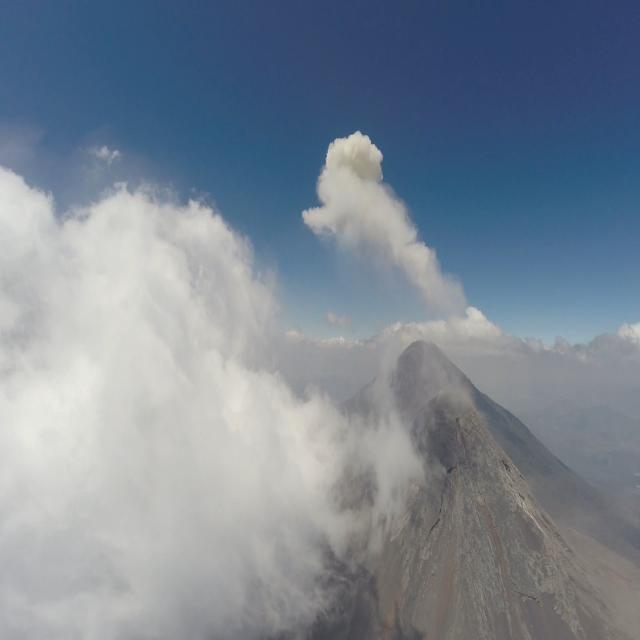Plume: (302, 127, 461, 296)
Summit: (382, 376, 576, 640)
